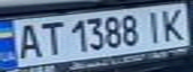1: (63, 16, 87, 53)
3: (84, 15, 109, 52)
8: (118, 11, 145, 47), (103, 14, 124, 48)
A: (9, 21, 45, 61)
I: (139, 7, 169, 44)
K: (154, 4, 190, 42)
T: (36, 19, 66, 56)
